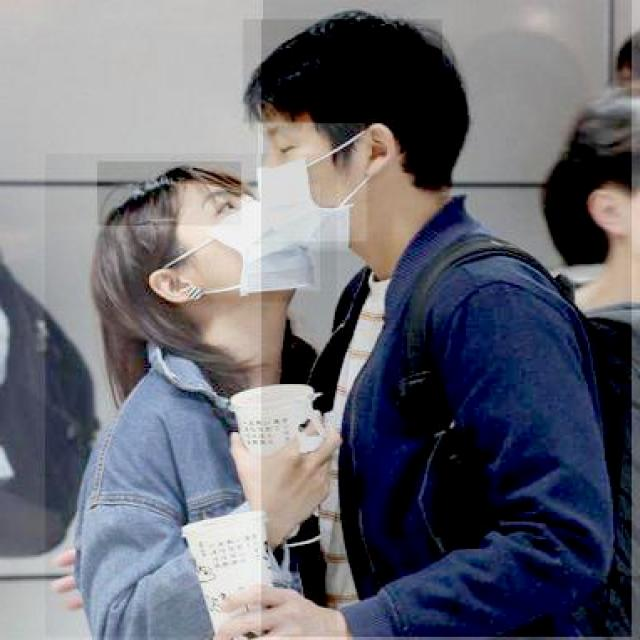face_mask: (179, 184, 320, 291), (256, 121, 367, 242)
hand_noglove: (226, 413, 337, 531)
head_nohelmet: (242, 19, 442, 125), (97, 162, 241, 226)
person: (262, 0, 632, 638), (44, 154, 336, 638)
